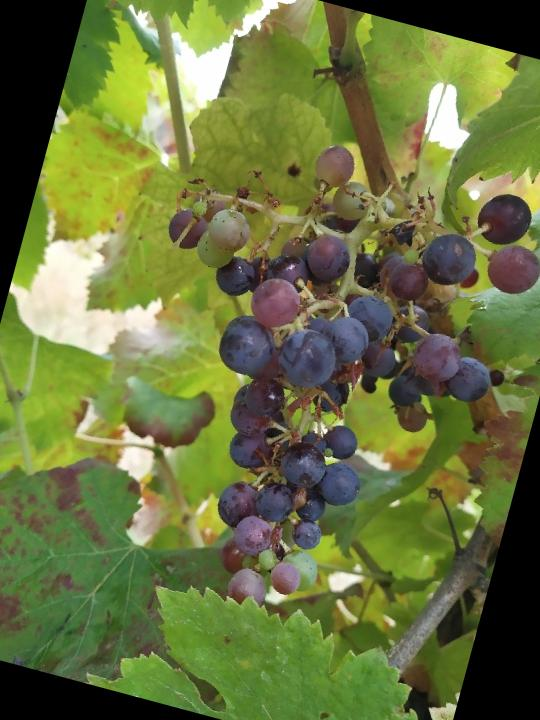grape: (75, 104, 540, 654)
